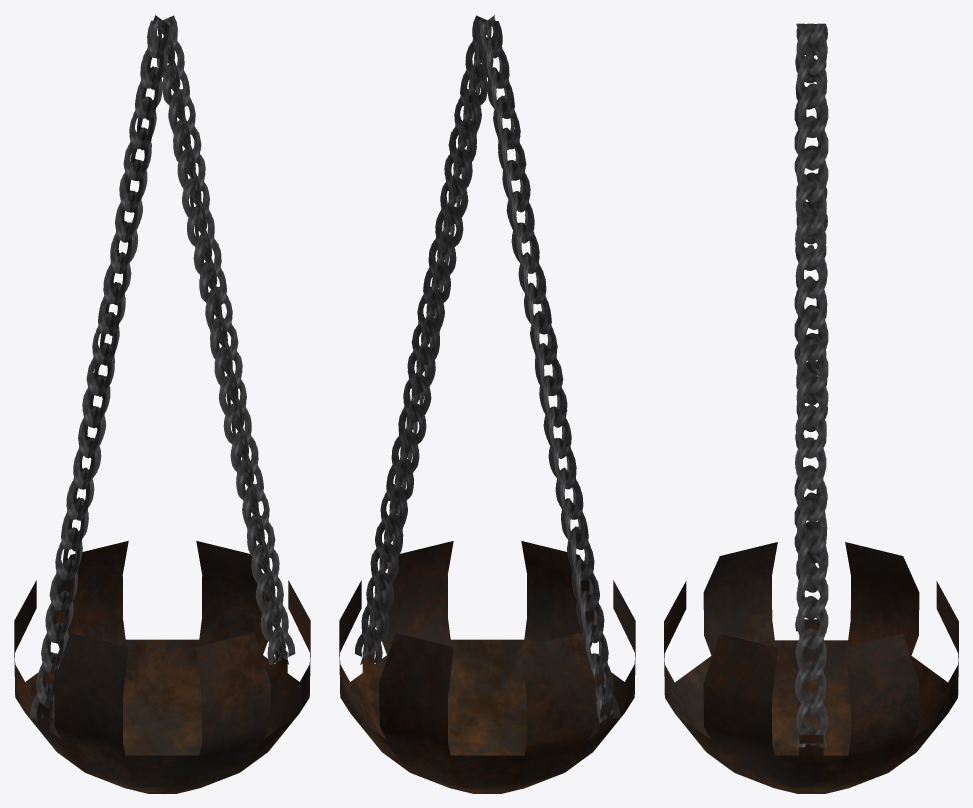
The model's file is torch_mod.fbx.
The picture shows the model from 3 angles, left to right: view 1: azimuth 30°, elevation 25°; view 2: azimuth 150°, elevation 25°; view 3: azimuth 270°, elevation 25°; orthographic projection.
Visible parts, largest first — view 1: Swinging torch; view 2: Swinging torch; view 3: Swinging torch.
Boxes of the visible parts, x1,y1,x2,y2 form: Swinging torch: (14,15,310,793); Swinging torch: (339,15,635,793); Swinging torch: (664,23,958,793).
Size of the model in its own units: 0.5568 by 1.5 by 0.5327.
